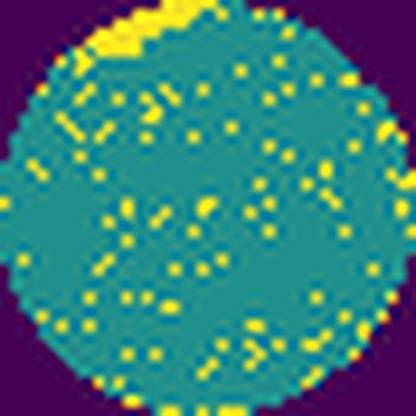Edge-Loc: (81, 0, 228, 63)
